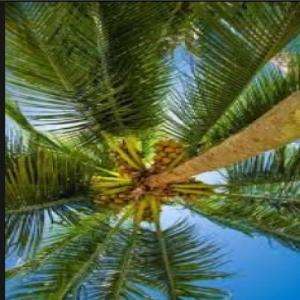palm tree: (4, 1, 299, 299)
